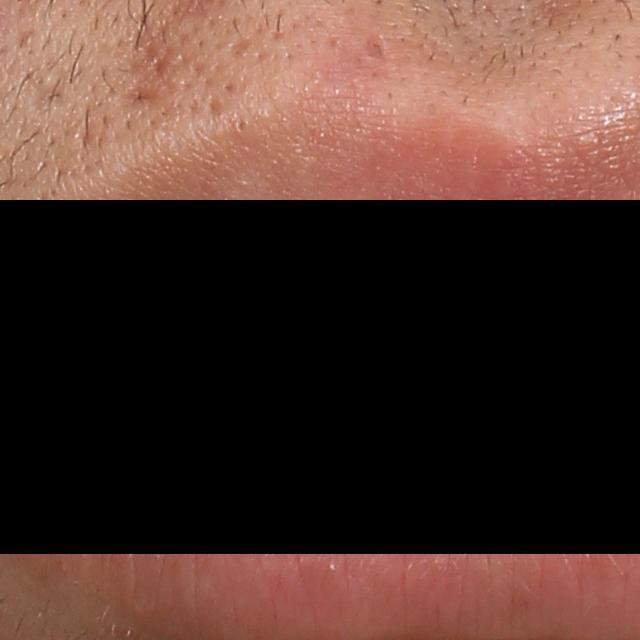atrophic_scar: (123, 14, 268, 124), (30, 58, 76, 112), (362, 27, 387, 62)
